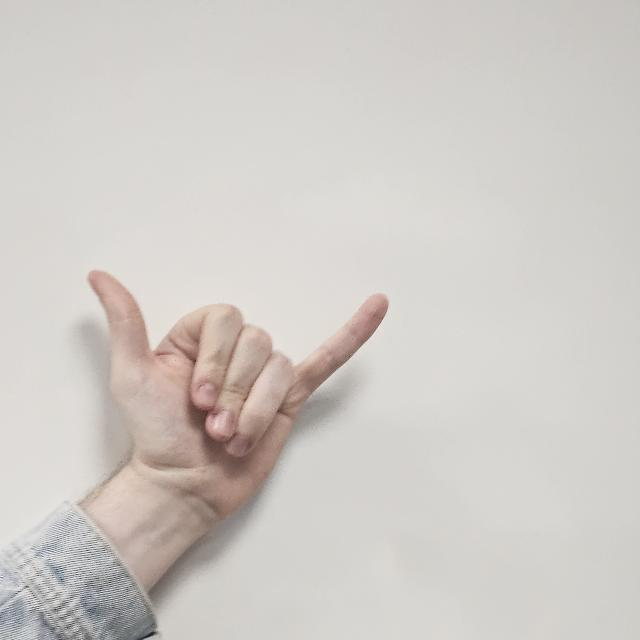Direita: (86, 260, 398, 514)
